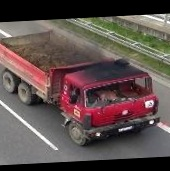truck: (0, 24, 161, 150)
